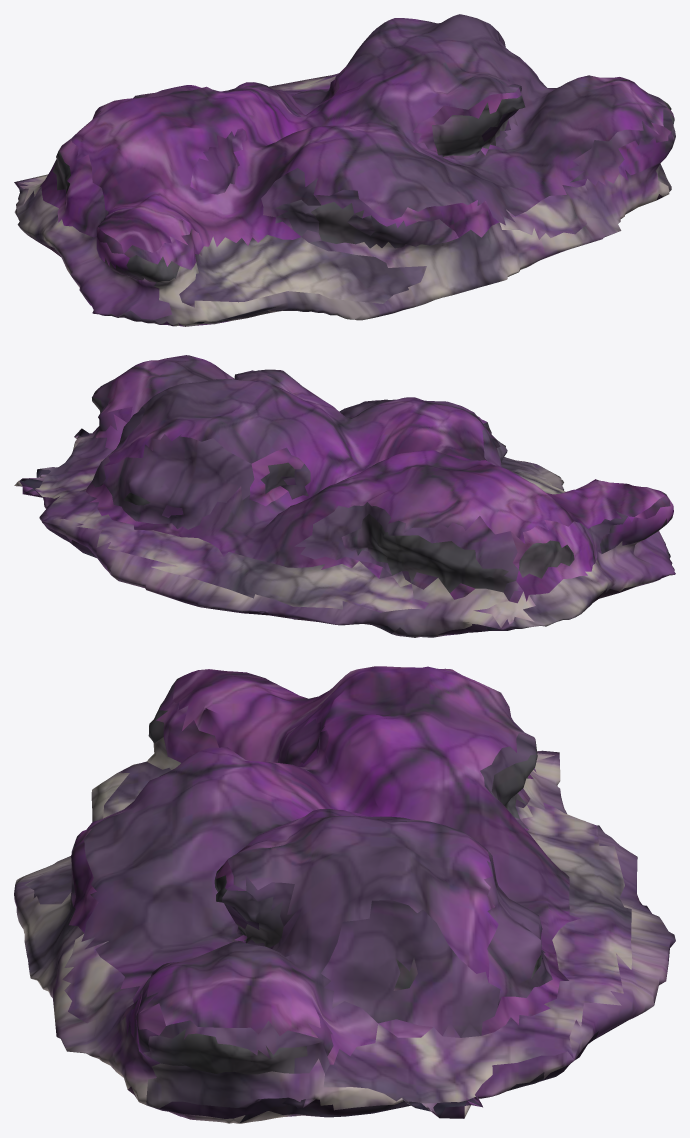
Rendered from reef-nsa-rubble-talus.glb.
3 renders of one model, top to bottom at view 1: azimuth 30°, elevation 25°; view 2: azimuth 150°, elevation 25°; view 3: azimuth 270°, elevation 25°, orthographic. The views are drawn at different scales.
Visible parts, largest first — view 1: Reef_NSA_Rubble_Talus; view 2: Reef_NSA_Rubble_Talus; view 3: Reef_NSA_Rubble_Talus.
Part boxes in pixels (box(x1,y1,x2,y2)): Reef_NSA_Rubble_Talus: box(14, 14, 675, 326); Reef_NSA_Rubble_Talus: box(14, 355, 675, 637); Reef_NSA_Rubble_Talus: box(14, 666, 675, 1123).
Size of the model in its own units: 0.4061 by 0.0917 by 0.2936.
Materials: 1 (1 with a texture image).
